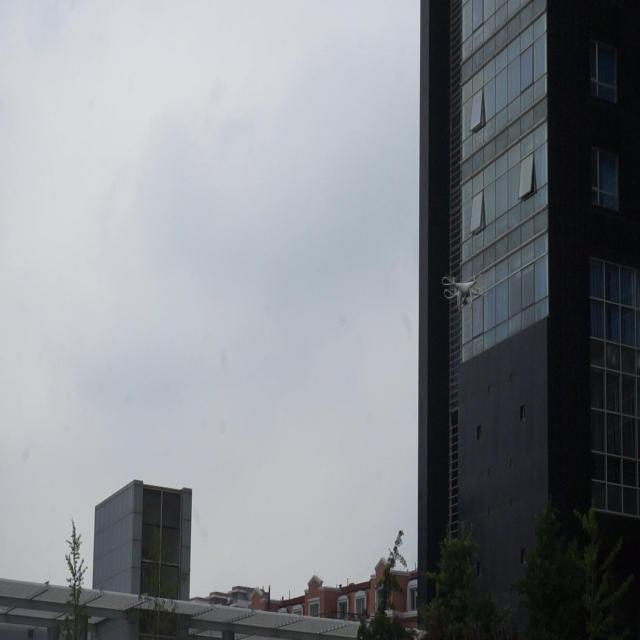drone: (438, 272, 488, 316)
